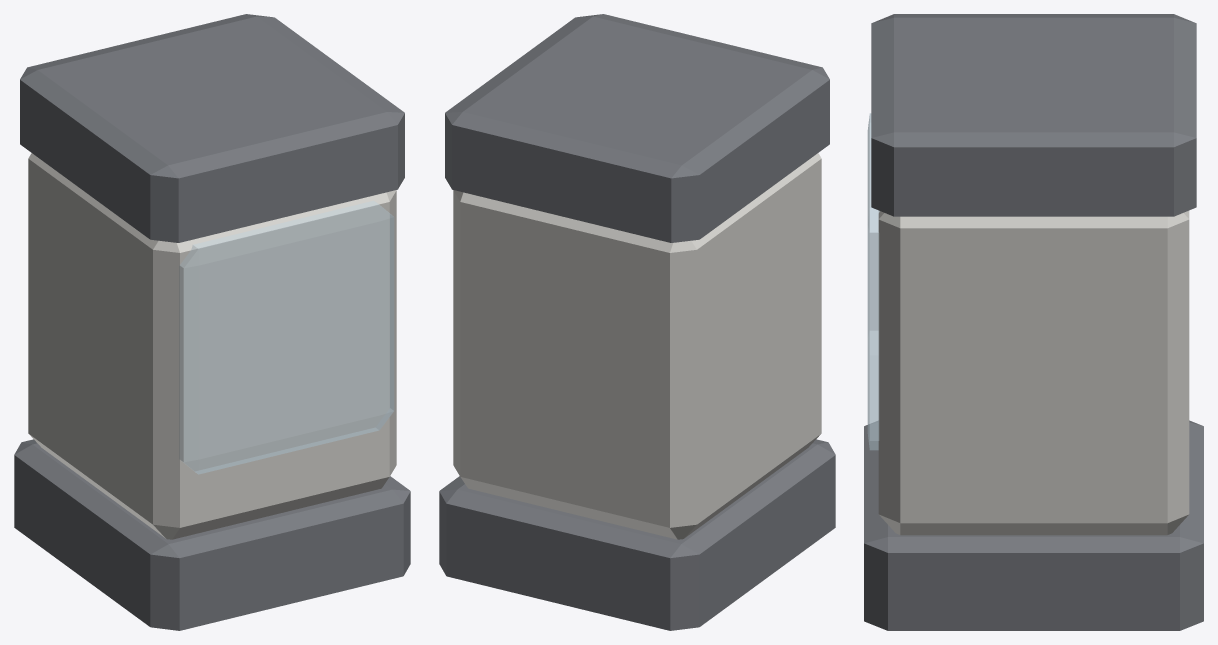
Rendered from b10_sidewalk_photo_booth.glb.
3 views of the same model, side by side, from view 1: azimuth 30°, elevation 25°; view 2: azimuth 150°, elevation 25°; view 3: azimuth 270°, elevation 25° (orthographic). The views are drawn at different scales.
Parts seen in each view (by area): view 1: b10_sidewalk_photo_booth; view 2: b10_sidewalk_photo_booth; view 3: b10_sidewalk_photo_booth.
Part boxes in pixels (x1,y1,x2,y2): b10_sidewalk_photo_booth: [14, 14, 410, 630]; b10_sidewalk_photo_booth: [439, 14, 835, 630]; b10_sidewalk_photo_booth: [864, 14, 1203, 630].
Bounding box in the file's own units: 1.31 × 2.21 × 1.38.
